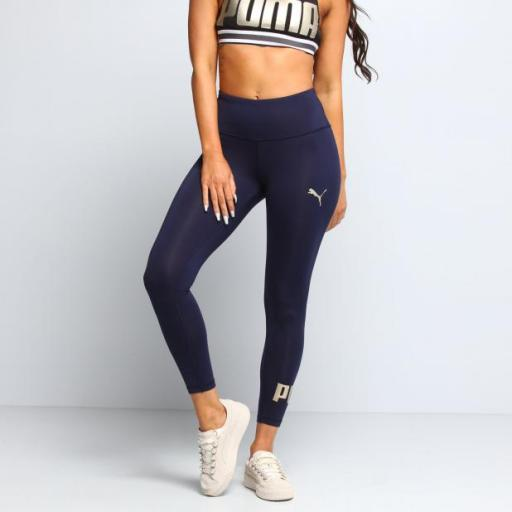Puma: (305, 185, 329, 207)
